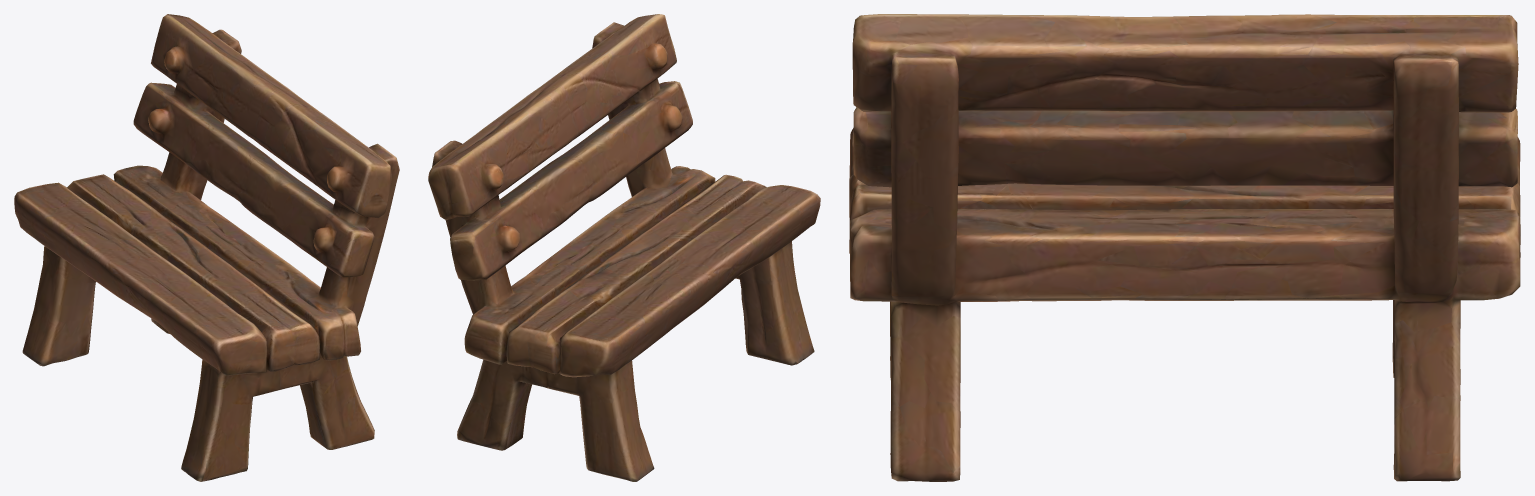
The model's file is rustic-bench.glb.
3 views of the same model, side by side, from view 1: azimuth 30°, elevation 25°; view 2: azimuth 150°, elevation 25°; view 3: azimuth 270°, elevation 25° (orthographic). The views are drawn at different scales.
Visible parts, largest first — view 1: Mesh_0; view 2: Mesh_0; view 3: Mesh_0.
Boxes of the visible parts, bbox=[...] form: Mesh_0: bbox=[14, 14, 399, 481]; Mesh_0: bbox=[428, 14, 820, 481]; Mesh_0: bbox=[849, 14, 1520, 481].
Size of the model in its own units: 1.09 by 1.47 by 1.97.
1 material, 1 textured.
